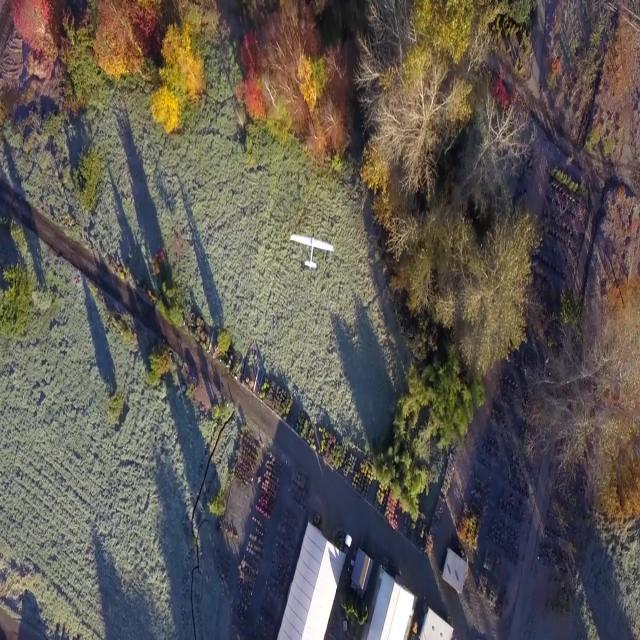iha: (290, 230, 335, 269)
